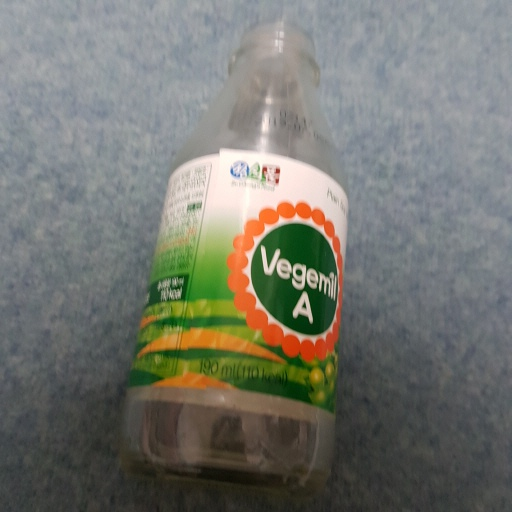Glass_4: (118, 23, 354, 480)
